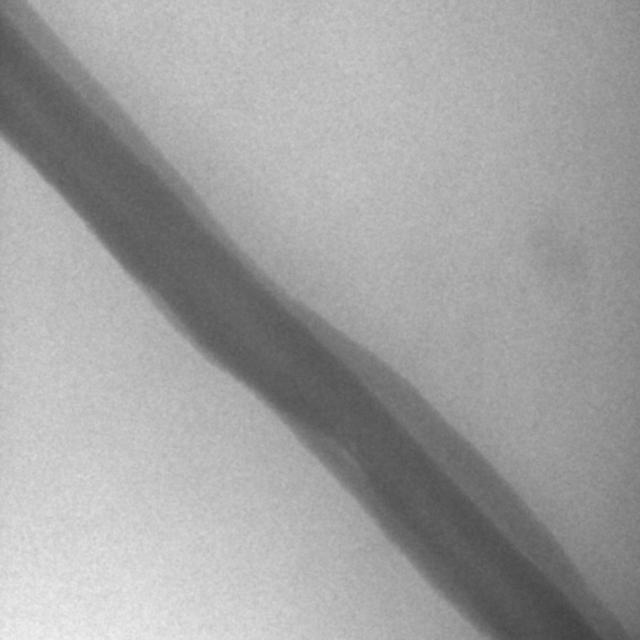unfused: (280, 412, 386, 512)
